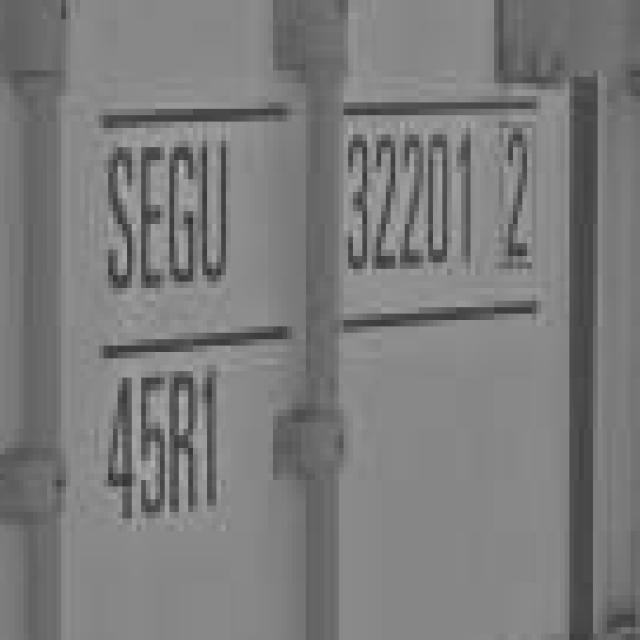dv: (496, 120, 544, 271)
owner: (91, 129, 233, 294)
serial: (338, 127, 482, 270)
size: (96, 364, 237, 532)
